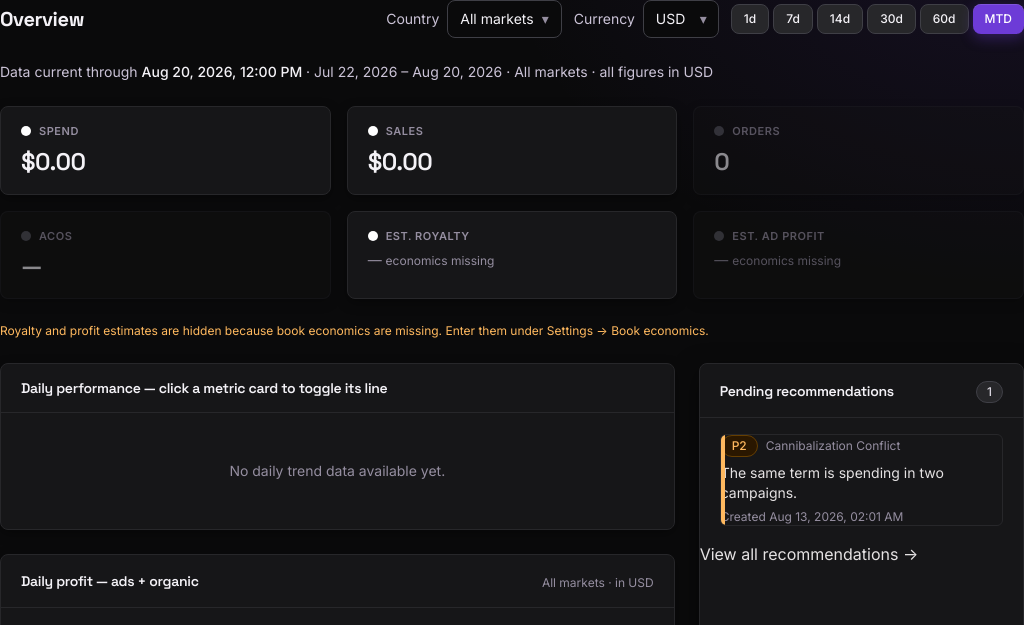
it: OverviewPage all-markets gating › disables the All markets option with an explanation when rates are unavailable
The width and height of the screenshot is (1024, 625).
Click the button with aria-label "Country" at (504, 19), box [447, 0, 562, 38]
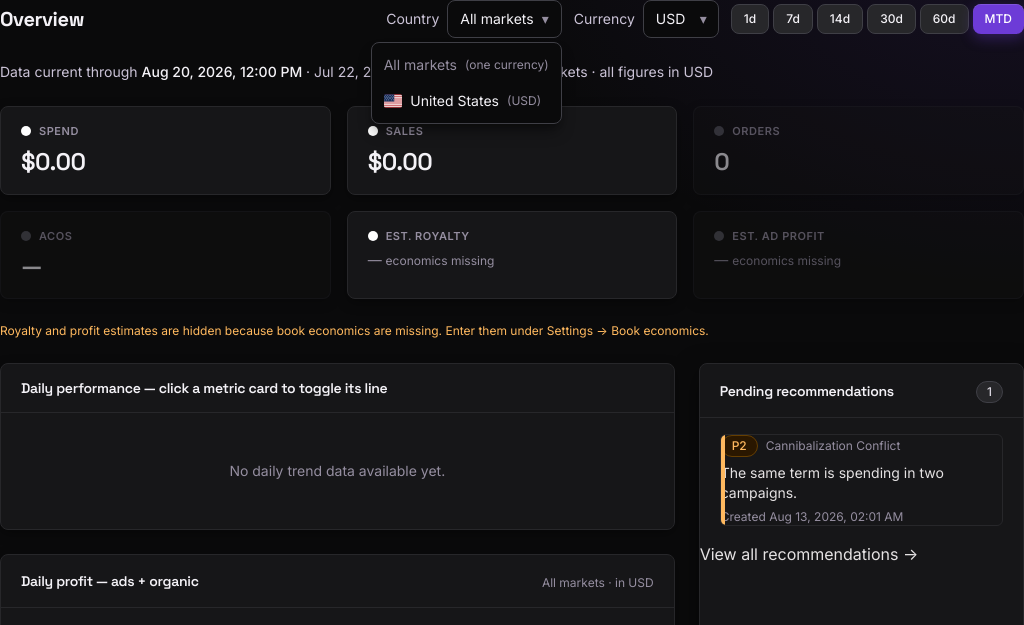
Expected: the button "All markets (one currency)" is disabled, [372, 47, 561, 83]
